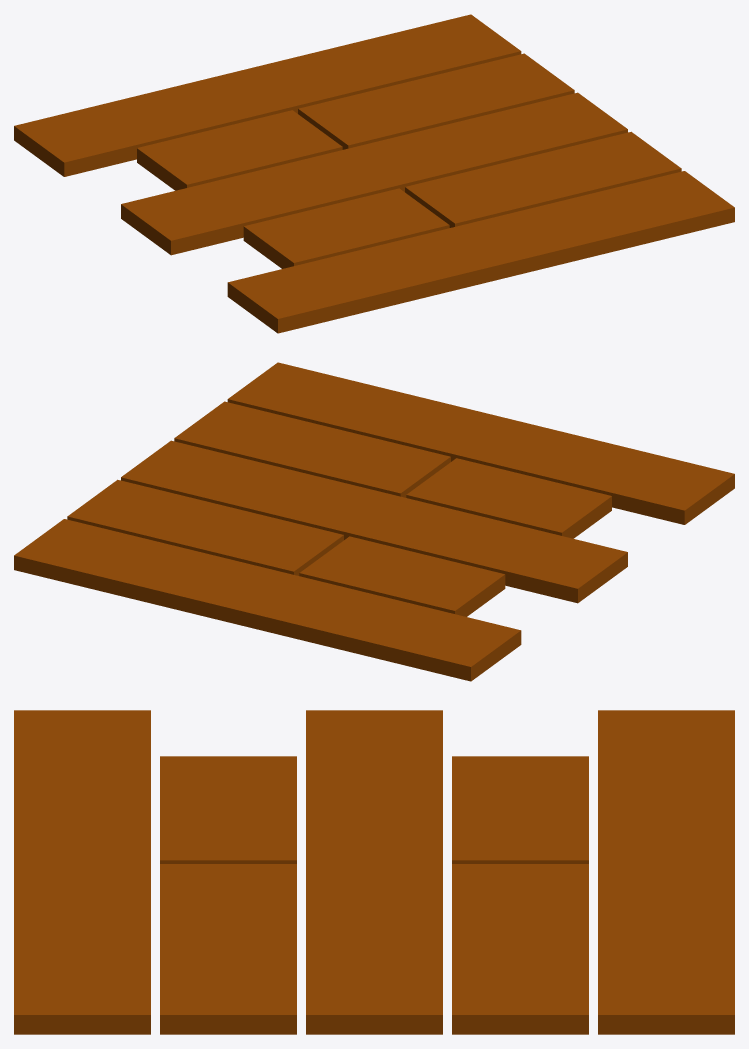
The model's file is RPG_Tiles_Square_Wooden_Boards_08.FBX.
The picture shows the model from 3 angles, top to bottom: view 1: azimuth 30°, elevation 25°; view 2: azimuth 150°, elevation 25°; view 3: azimuth 270°, elevation 25°; orthographic projection. The views are drawn at different scales.
Parts seen in each view (by area): view 1: RPG_Tiles_Square_Wooden_Boards_08; view 2: RPG_Tiles_Square_Wooden_Boards_08; view 3: RPG_Tiles_Square_Wooden_Boards_08.
Part boxes in pixels (bbox=[...]): RPG_Tiles_Square_Wooden_Boards_08: bbox=[14, 14, 734, 333]; RPG_Tiles_Square_Wooden_Boards_08: bbox=[14, 362, 734, 681]; RPG_Tiles_Square_Wooden_Boards_08: bbox=[14, 710, 734, 1034].
Size of the model in its own units: 2964 by 90 by 2964.
